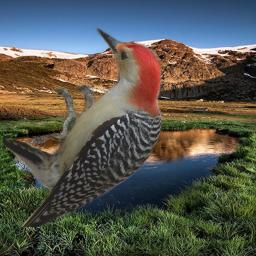Woodpecker: (3, 26, 170, 227)
